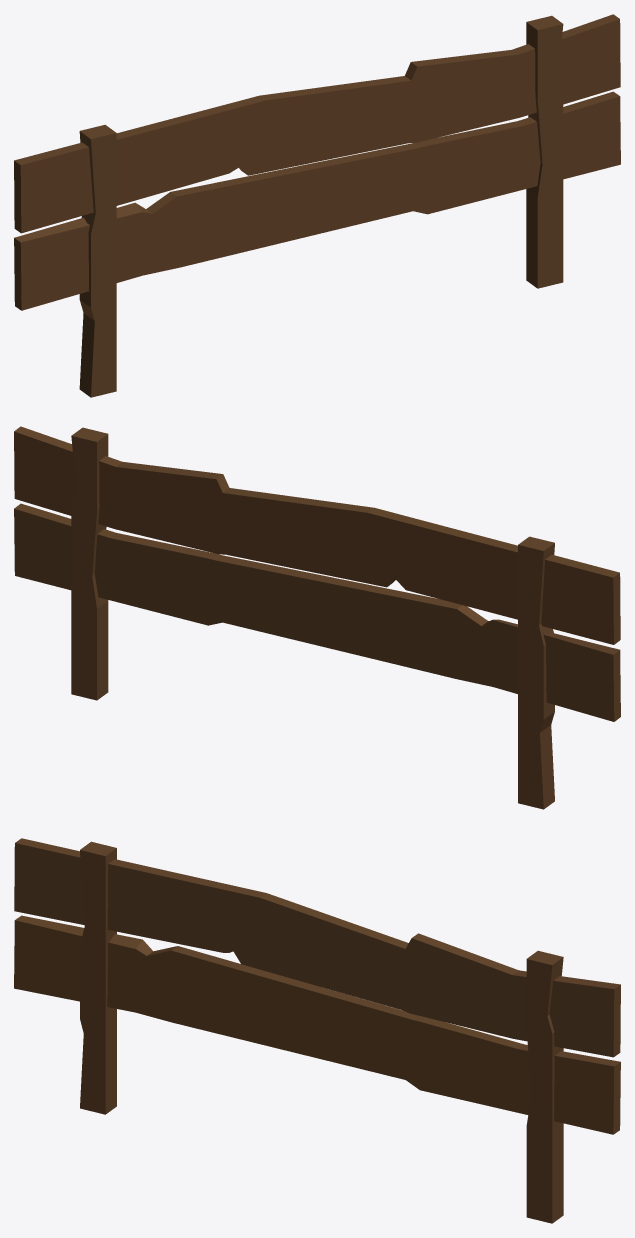
File: v_fence.glb
The picture shows the model from 3 angles, top to bottom: view 1: azimuth 30°, elevation 25°; view 2: azimuth 150°, elevation 25°; view 3: azimuth 330°, elevation 25°; orthographic projection.
Parts seen in each view (by area): view 1: Fence; view 2: Fence; view 3: Fence.
Boxes of the visible parts, x1=… form: Fence: x1=14, y1=14, x2=620, y2=397; Fence: x1=14, y1=426, x2=620, y2=809; Fence: x1=14, y1=838, x2=620, y2=1223.
Bounding box in the file's own units: 0.791 × 0.326 × 0.0259.
